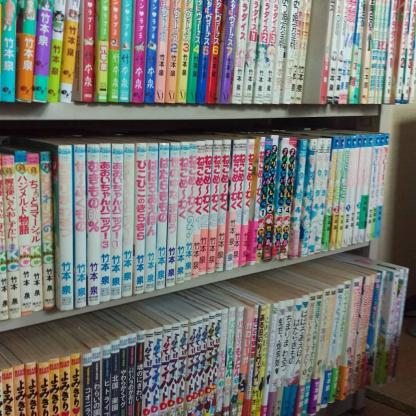book: (0, 128, 387, 320), (0, 252, 413, 416), (0, 0, 416, 104)
